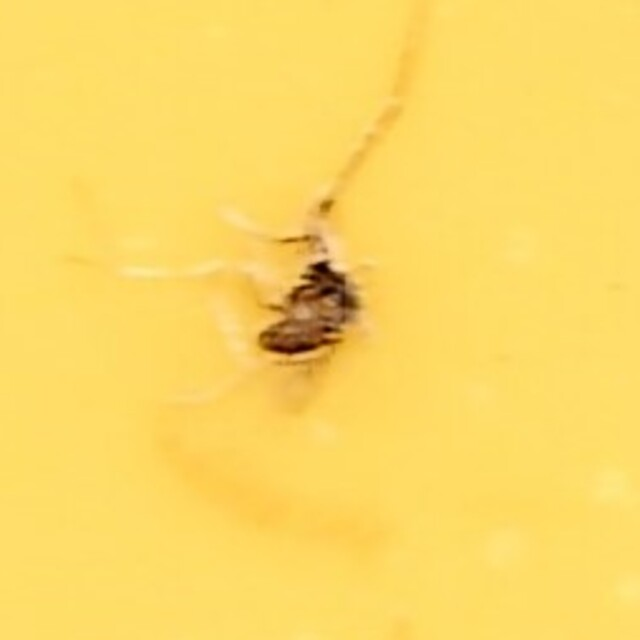Nematocera: (252, 247, 388, 393)
